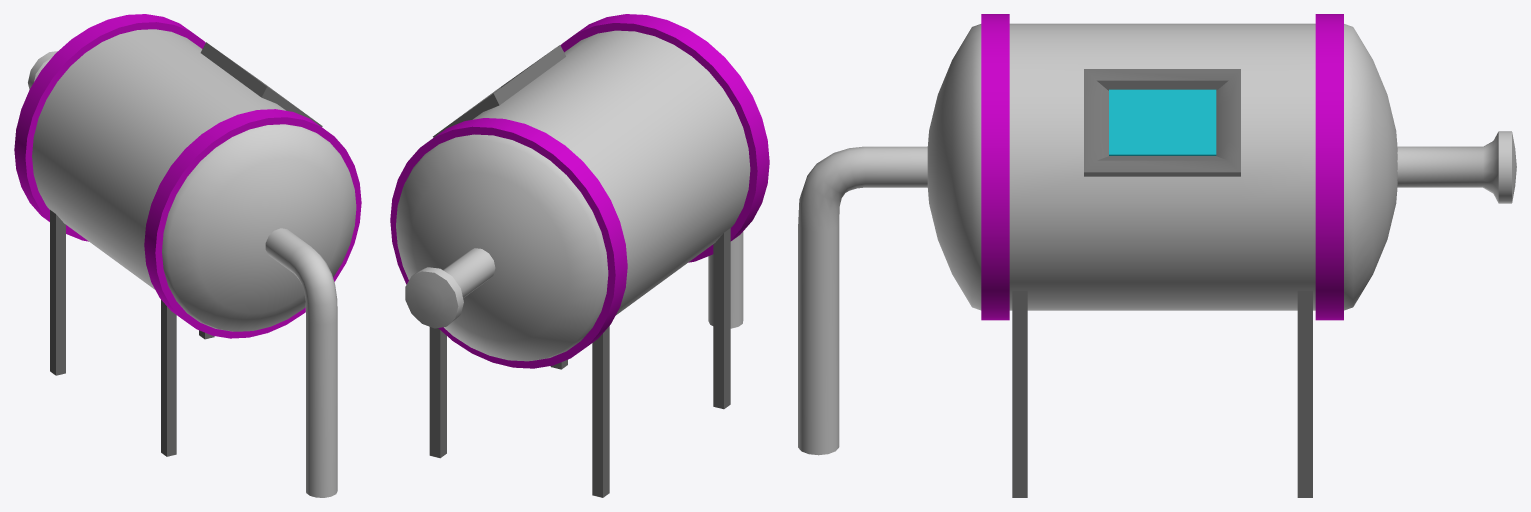
The model's file is OilTank.fbx.
The picture shows the model from 3 angles, left to right: view 1: azimuth 30°, elevation 25°; view 2: azimuth 150°, elevation 25°; view 3: azimuth 270°, elevation 25°; orthographic projection. The views are drawn at different scales.
Visible parts, largest first — view 1: Oil_Tank; view 2: Oil_Tank; view 3: Oil_Tank.
Part boxes in pixels (x1,y1,x2,y2): Oil_Tank: [14, 14, 361, 497]; Oil_Tank: [390, 14, 769, 497]; Oil_Tank: [798, 14, 1516, 497].
Bounding box in the file's own units: 185 × 278 × 432.
